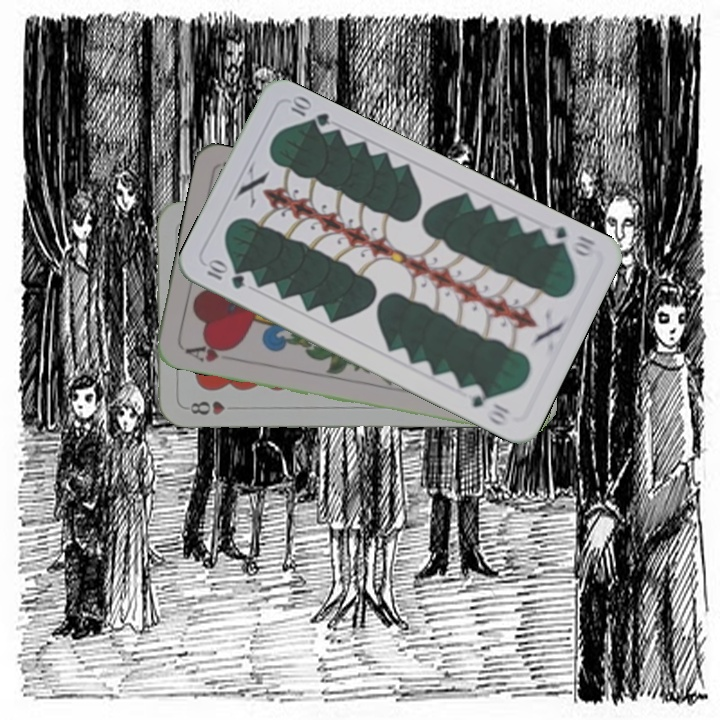G10: (539, 221, 598, 261), (201, 256, 248, 292)
H8: (186, 397, 241, 417)
HA: (181, 339, 239, 365)
